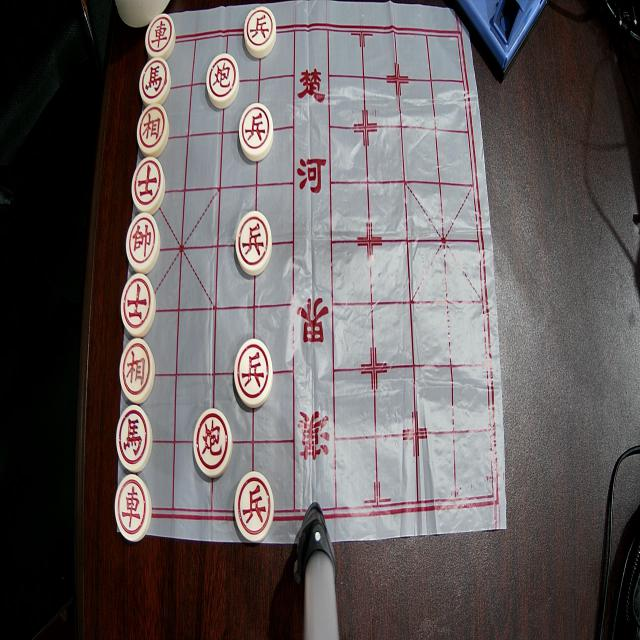red-cannon: (193, 408, 233, 478), (207, 53, 240, 108)
red-chariot: (115, 474, 152, 542), (145, 14, 176, 56)
red-elephant: (120, 338, 156, 404), (137, 103, 169, 156)
red-general: (126, 212, 160, 273)
red-guard: (121, 274, 156, 338), (132, 156, 166, 212)
red-horse: (116, 405, 153, 473), (139, 57, 171, 103)
red-soldier: (234, 471, 274, 542), (234, 339, 273, 408), (236, 211, 272, 276), (238, 103, 274, 161), (244, 6, 276, 58)
